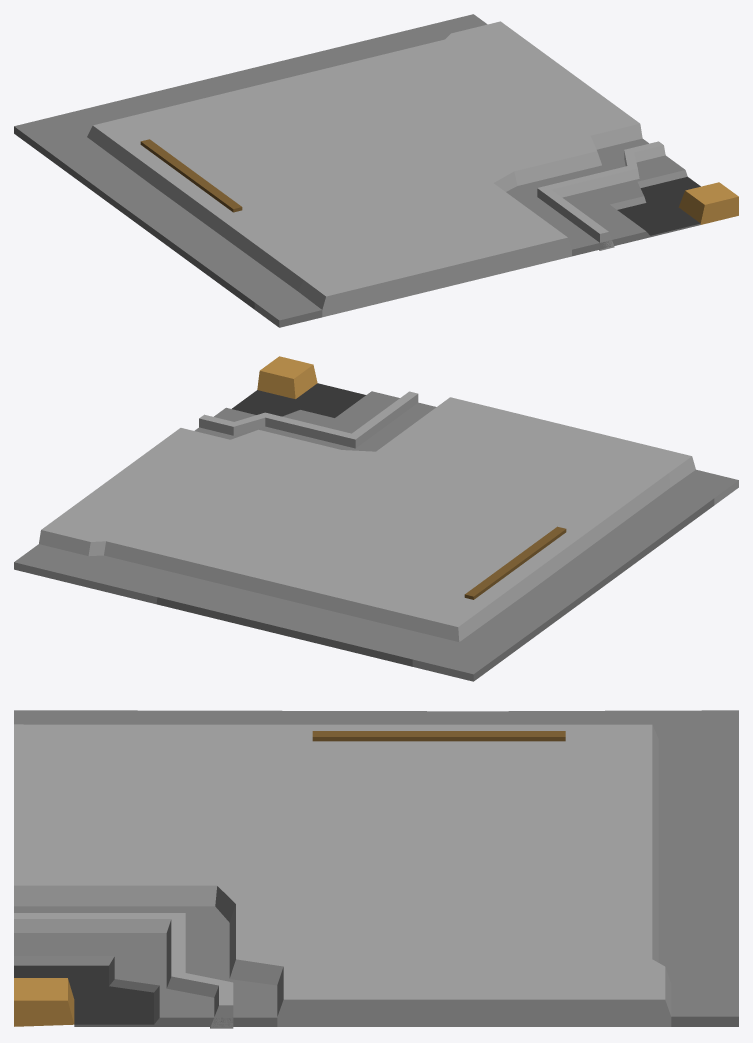
The model's file is floortile_innercorner.007_lev3.glb.
3 renders of one model, top to bottom at view 1: azimuth 30°, elevation 25°; view 2: azimuth 150°, elevation 25°; view 3: azimuth 270°, elevation 25°, orthographic. The views are drawn at different scales.
Parts seen in each view (by area): view 1: floortile_innercorner.007_lev3; view 2: floortile_innercorner.007_lev3; view 3: floortile_innercorner.007_lev3.
Boxes of the visible parts, <box> form: floortile_innercorner.007_lev3: <box>14,14,738,327</box>; floortile_innercorner.007_lev3: <box>14,356,738,681</box>; floortile_innercorner.007_lev3: <box>14,710,738,1028</box>.
Bounding box in the file's own units: 2 × 0.102 × 2.
